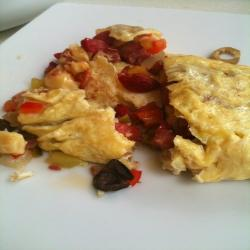omelette: (13, 18, 249, 190)
